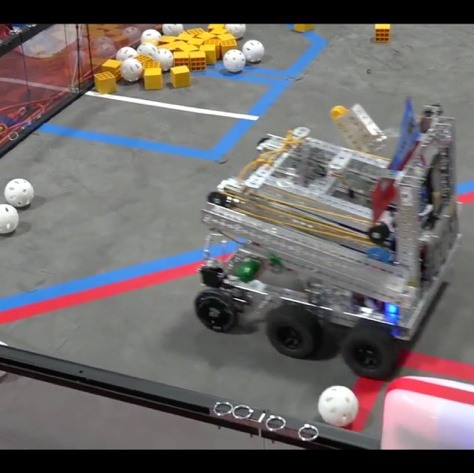robot: (194, 92, 467, 383)
